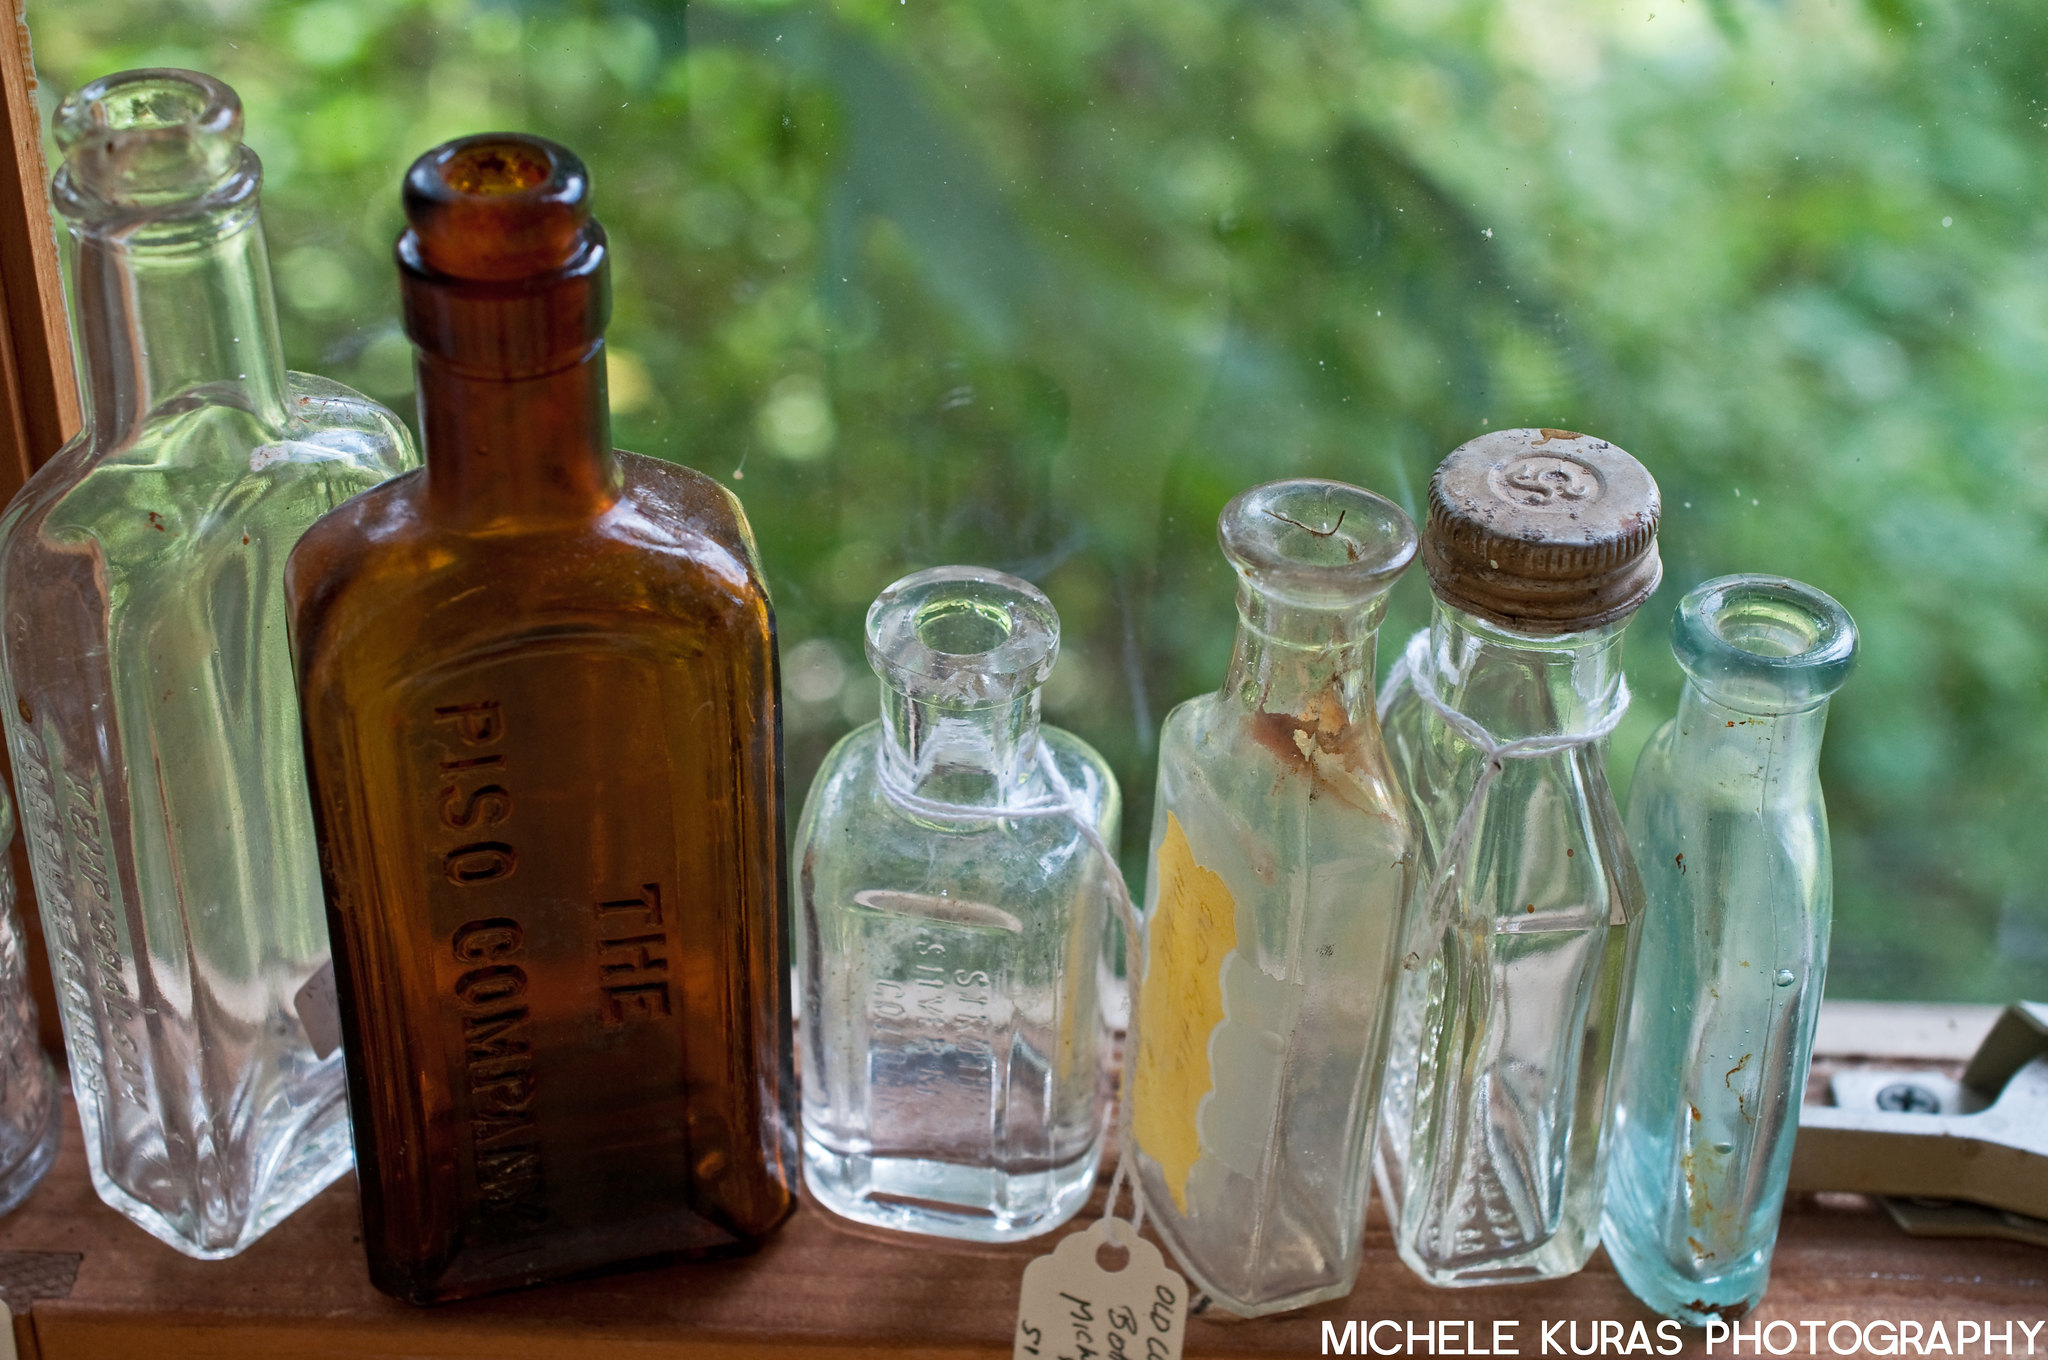bottle: (288, 167, 828, 1296), (5, 71, 414, 1261), (1390, 419, 1652, 1296), (798, 581, 1118, 1267), (1153, 483, 1406, 1310), (1597, 578, 1875, 1305)
